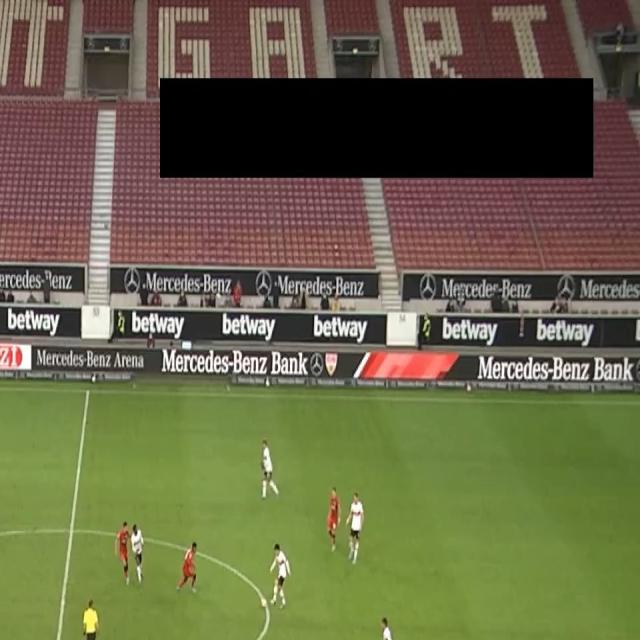ball: (260, 594, 267, 608)
